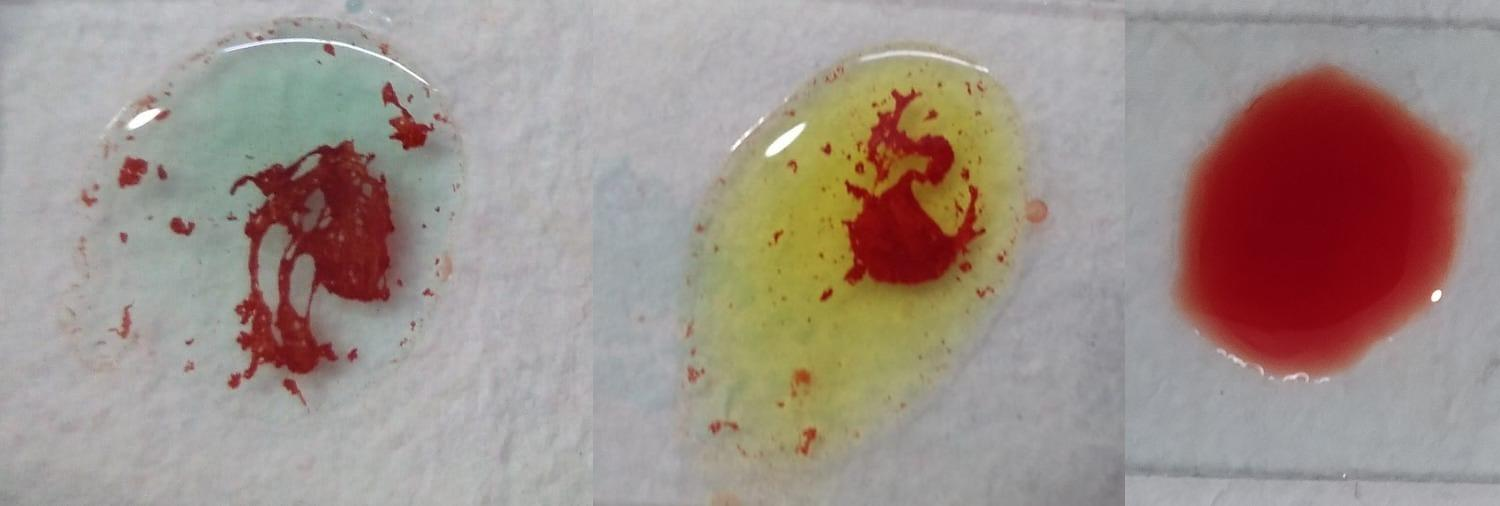A: (77, 30, 477, 416)
B: (690, 47, 1020, 477)
